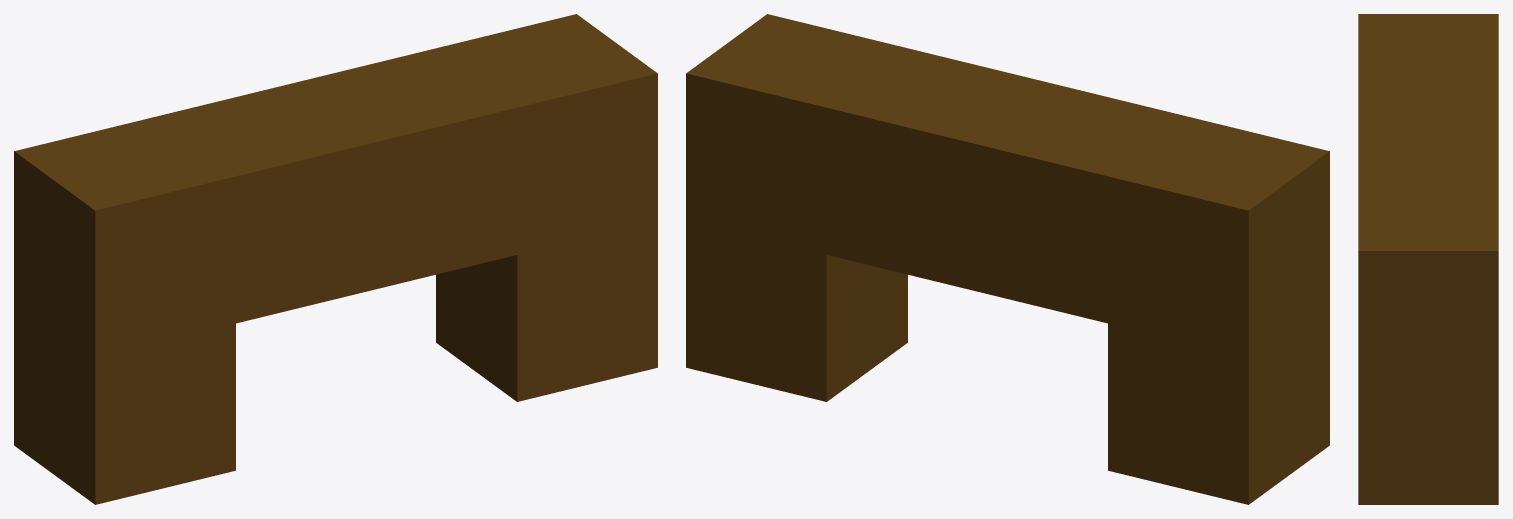
File: characters_export_red-272-stache_horseshoe.obj
The picture shows the model from 3 angles, left to right: view 1: azimuth 30°, elevation 25°; view 2: azimuth 150°, elevation 25°; view 3: azimuth 270°, elevation 25°; orthographic projection. The views are drawn at different scales.
Parts seen in each view (by area): view 1: stache_horseshoe; view 2: stache_horseshoe; view 3: stache_horseshoe.
Part boxes in pixels (left/top/right/bottom): stache_horseshoe: left=14, top=14, right=657, bottom=504; stache_horseshoe: left=686, top=14, right=1329, bottom=504; stache_horseshoe: left=1358, top=14, right=1498, bottom=504.
Bounding box in the file's own units: 0.4 × 0.2 × 0.1.
Materials: 1 (1 with a texture image).
